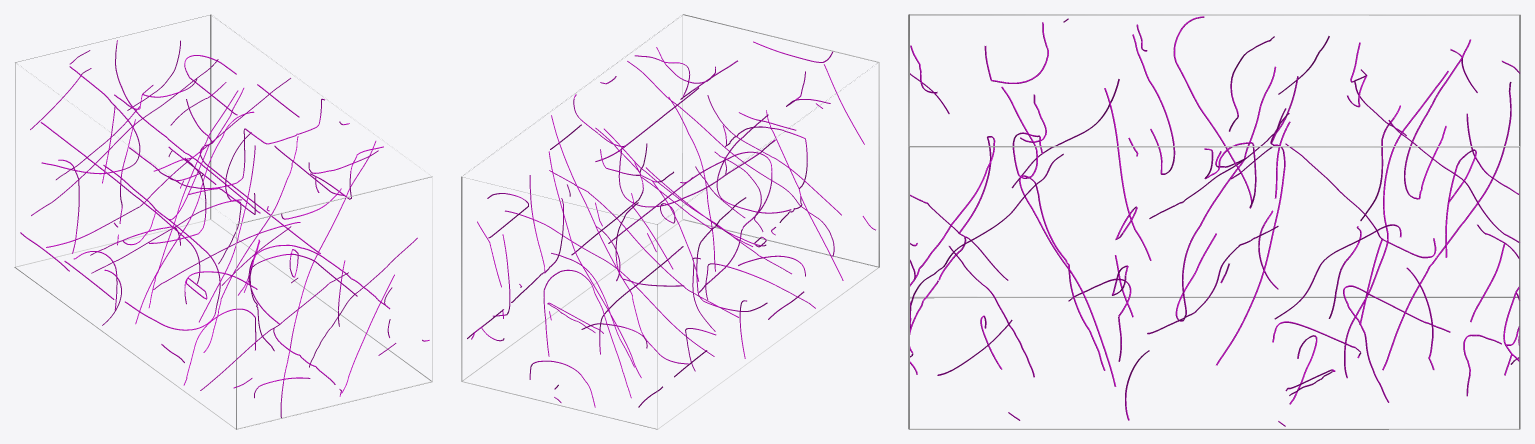
The picture shows the model from 3 angles, left to right: view 1: azimuth 30°, elevation 25°; view 2: azimuth 150°, elevation 25°; view 3: azimuth 270°, elevation 25°; orthographic projection. The views are drawn at different scales.
Visible parts, largest first — view 1: Shape_IndexedLineSet.001, Shape_IndexedLineSet; view 2: Shape_IndexedLineSet.001, Shape_IndexedLineSet; view 3: Shape_IndexedLineSet.001, Shape_IndexedLineSet.
Boxes of the visible parts, <box> form: Shape_IndexedLineSet.001: <box>20,40,429,417</box>; Shape_IndexedLineSet: <box>14,14,432,429</box>; Shape_IndexedLineSet.001: <box>467,41,875,407</box>; Shape_IndexedLineSet: <box>461,14,879,429</box>; Shape_IndexedLineSet.001: <box>910,16,1519,426</box>; Shape_IndexedLineSet: <box>908,14,1520,429</box>.
Bounding box in the file's own units: 235 × 235 × 459.
